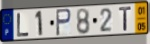1: (34, 10, 44, 38)
2: (100, 8, 114, 34)
8: (75, 8, 91, 36)
L: (16, 12, 31, 38)
P: (55, 7, 73, 37)
T: (118, 6, 133, 32)
